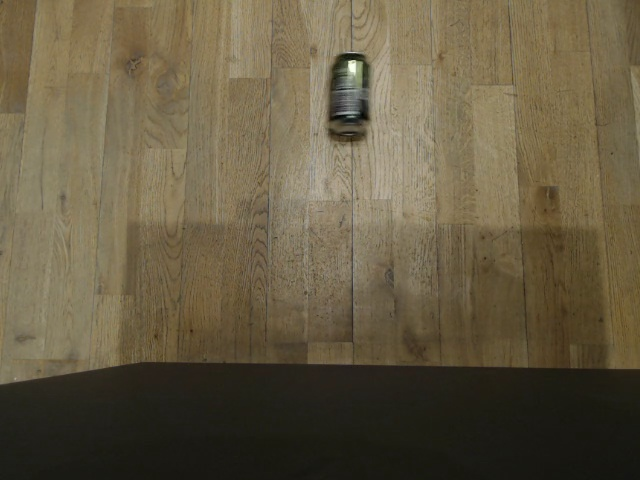beer: (324, 49, 373, 142)
